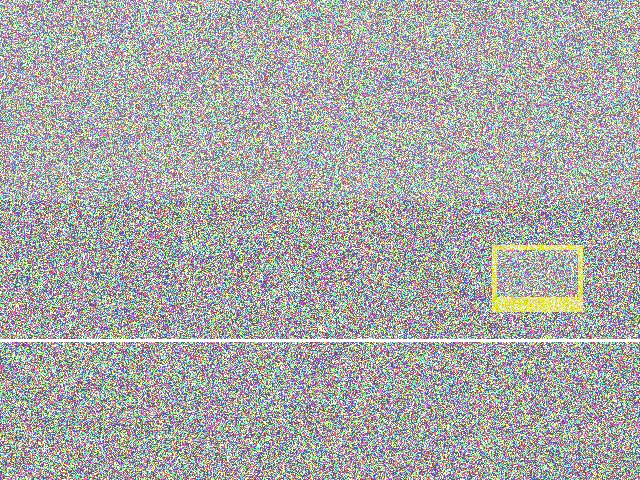bus: (113, 350, 260, 450)
car: (132, 216, 291, 347)
motorcycle: (376, 141, 563, 197)
